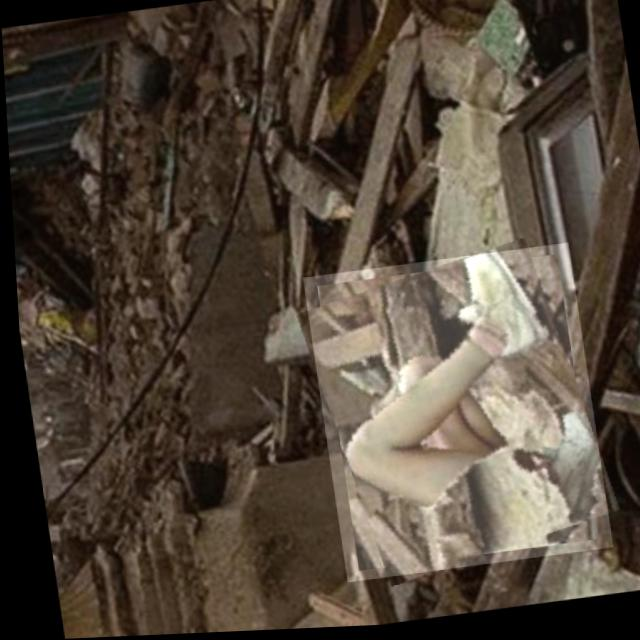Person in Rubble: (297, 245, 607, 585)
